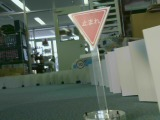stop: (67, 6, 112, 50)
